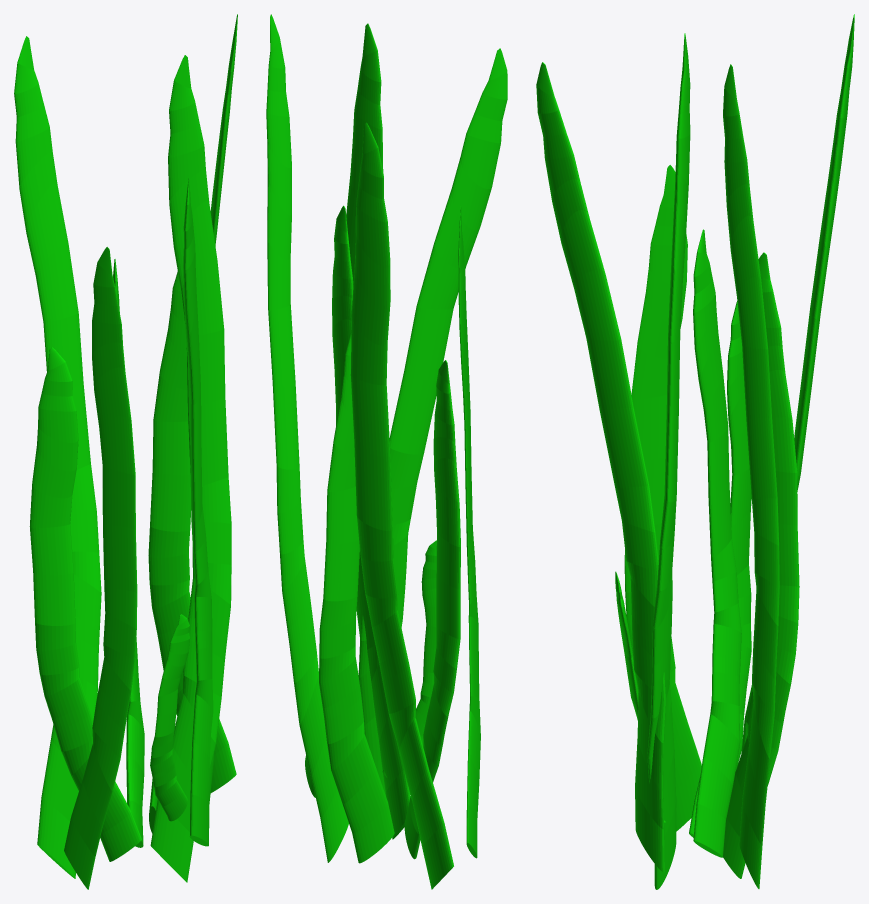
The model's file is planta.glb.
3 renders of one model, left to right at view 1: azimuth 30°, elevation 25°; view 2: azimuth 150°, elevation 25°; view 3: azimuth 270°, elevation 25°, orthographic. The views are drawn at different scales.
Visible parts, largest first — view 1: Cone.005, Cone.008, Cone.004, Cone.002, Cone.006, Cone.007, Cone.003, Cone, Cone.001; view 2: Cone.008, Cone.001, Cone.007, Cone, Cone.002, Cone.005, Cone.004, Cone.006, Cone.003; view 3: Cone.007, Cone.001, Cone.006, Cone.004, Cone.005, Cone, Cone.002, Cone.008, Cone.003.
Part boxes in pixels (x1,y1,x2,y2): Cone.005: (150,55,231,882); Cone.008: (14,36,101,878); Cone.004: (64,247,137,889); Cone.002: (29,347,141,861); Cone.006: (148,271,236,792); Cone.007: (183,178,214,846); Cone.003: (150,614,190,821); Cone: (113,259,144,847); Cone.001: (149,14,237,833); Cone.008: (350,122,453,889); Cone.001: (266,14,348,862); Cone.007: (358,48,507,795); Cone: (319,332,394,863); Cone.002: (404,360,460,859); Cone.005: (346,23,410,839); Cone.004: (458,207,480,858); Cone.006: (305,205,353,797); Cone.003: (382,540,436,777); Cone.007: (536,62,665,872); Cone.001: (723,64,779,888); Cone.006: (693,229,741,857); Cone.004: (624,165,701,831); Cone.005: (647,33,690,889); Cone: (723,252,799,878); Cone.002: (689,301,751,837); Cone.008: (741,14,854,753); Cone.003: (615,571,666,822).
Size of the model in its own units: 1.7 by 6.79 by 2.24.
